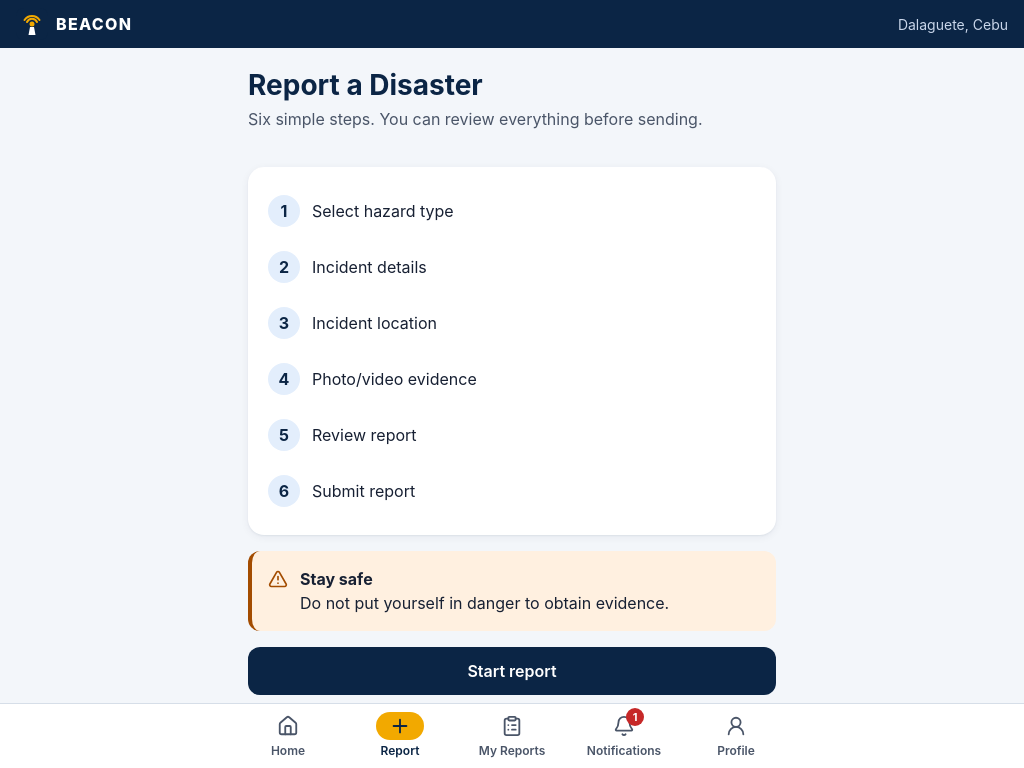
step 2: incident details › rejects a future date
The width and height of the screenshot is (1024, 768).
Click the button "Start report". click: (512, 671)
box: top-left (248, 647), bottom-right (776, 695)
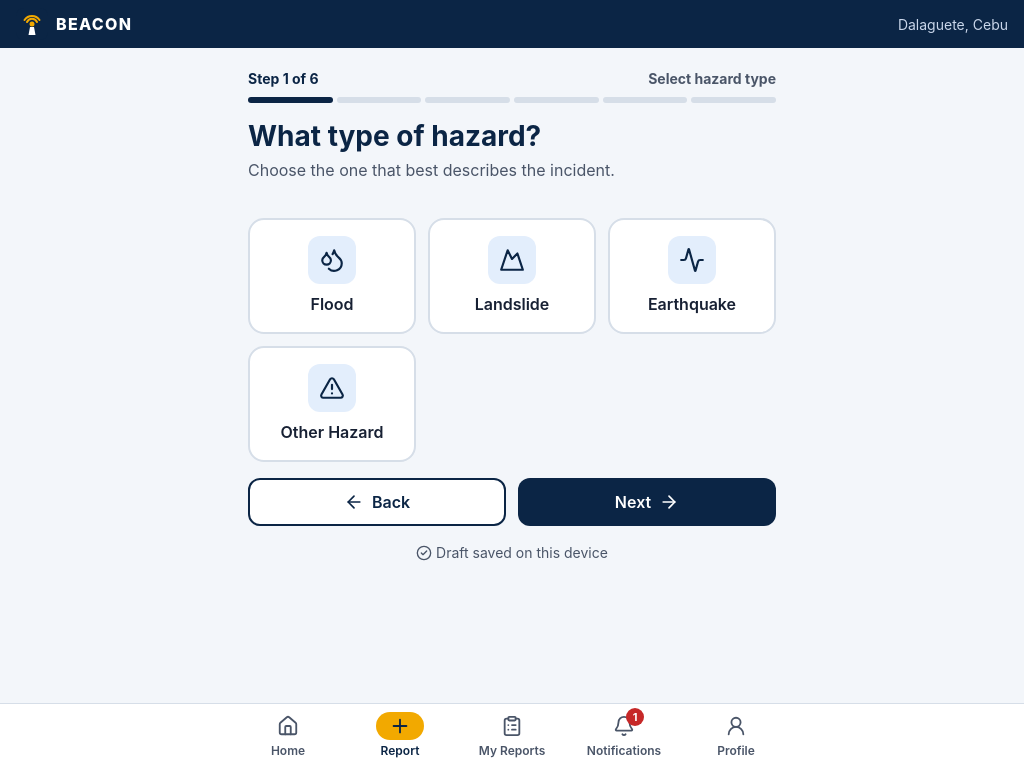
expect the heading "What type of hazard?" is shown: met, box top-left (248, 119), bottom-right (541, 153)
Click the radio button labelled "Landslide". click: (512, 276)
box: top-left (428, 218), bottom-right (596, 334)
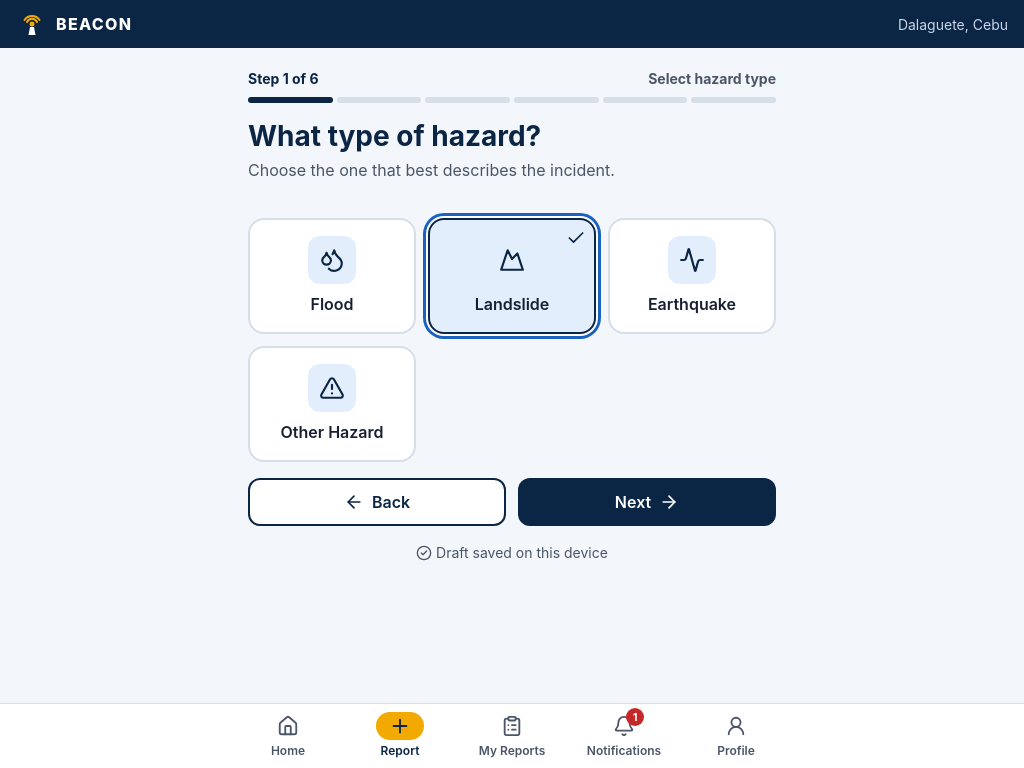
Click the button "Next". click: (647, 502)
box: top-left (518, 478), bottom-right (776, 526)
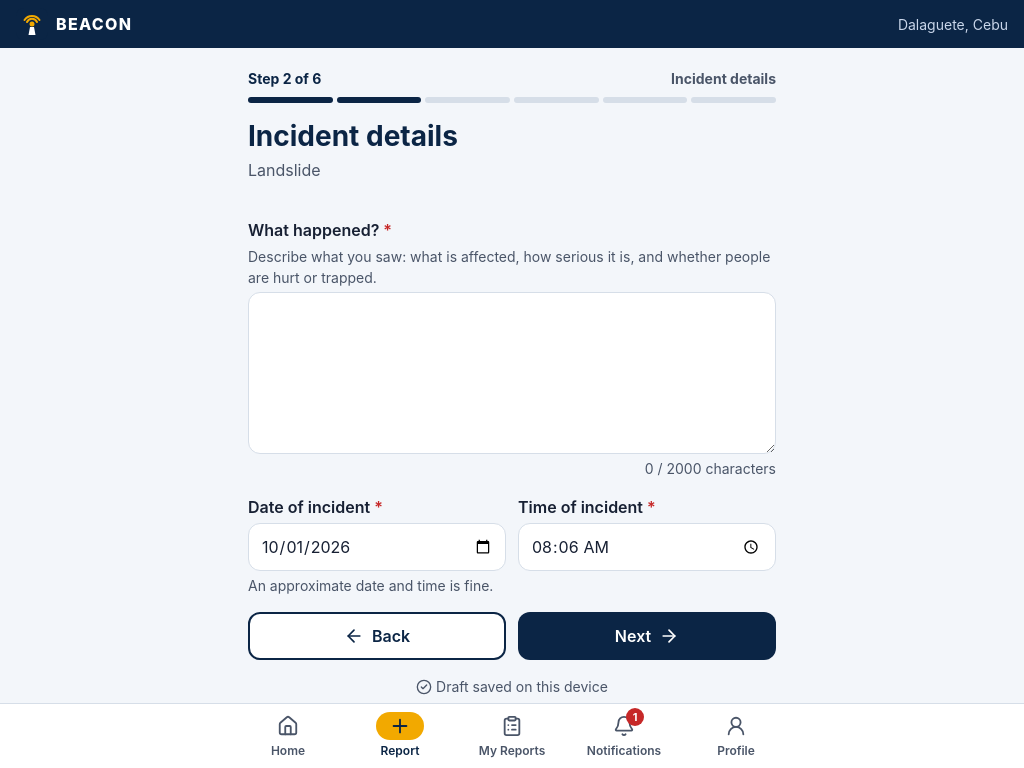
expect the heading "Incident details" is shown: met, box top-left (248, 119), bottom-right (458, 153)
Type "Rocks blocked the road." into the text box labelled "What happened?". click: (512, 373)
box: top-left (248, 292), bottom-right (776, 454)
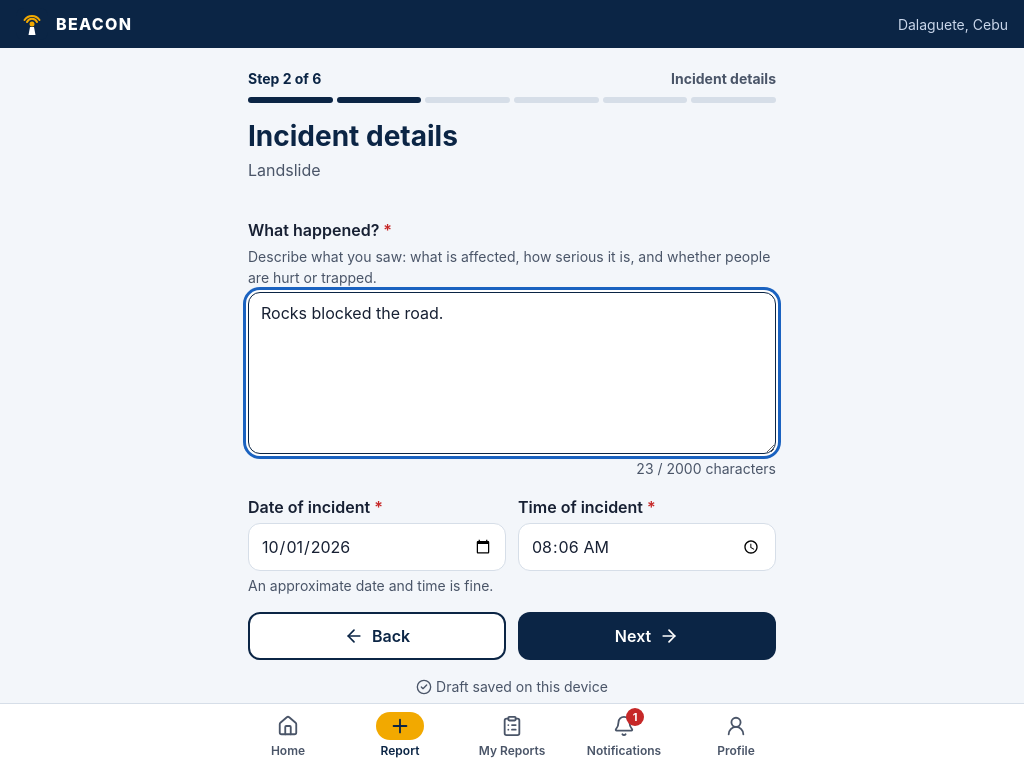
Type "2099-01-01" into the date field labelled "Date of incident". click: (377, 547)
box: top-left (248, 523), bottom-right (506, 571)
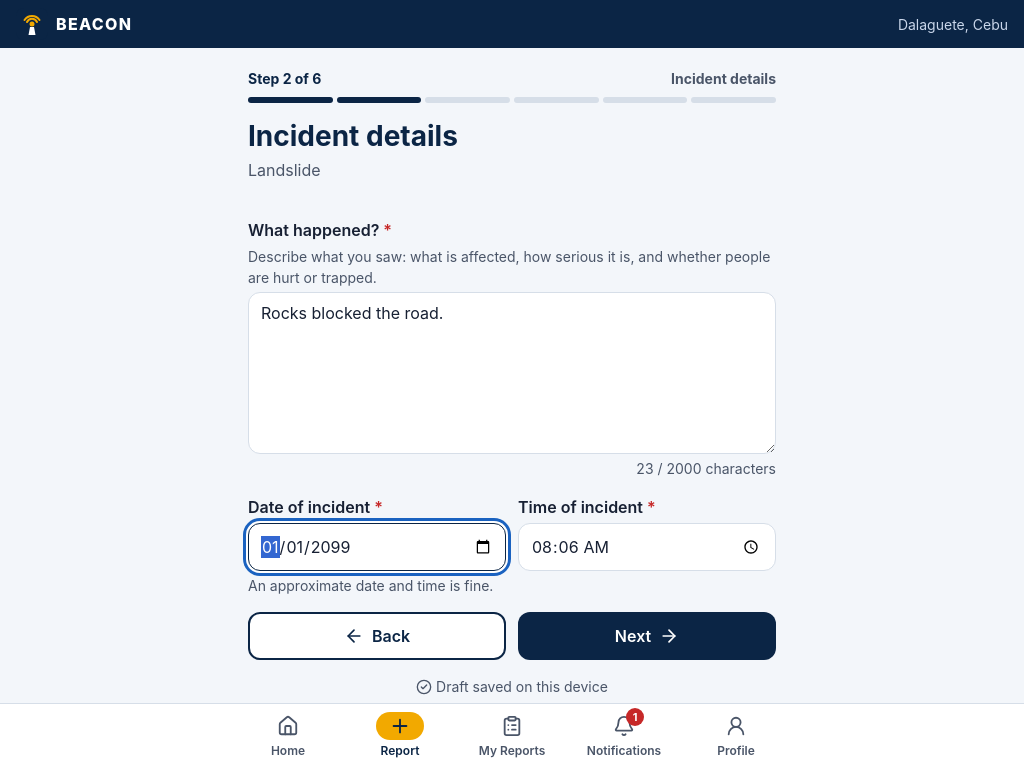
Click the button "Next". click: (647, 636)
box: top-left (518, 612), bottom-right (776, 660)
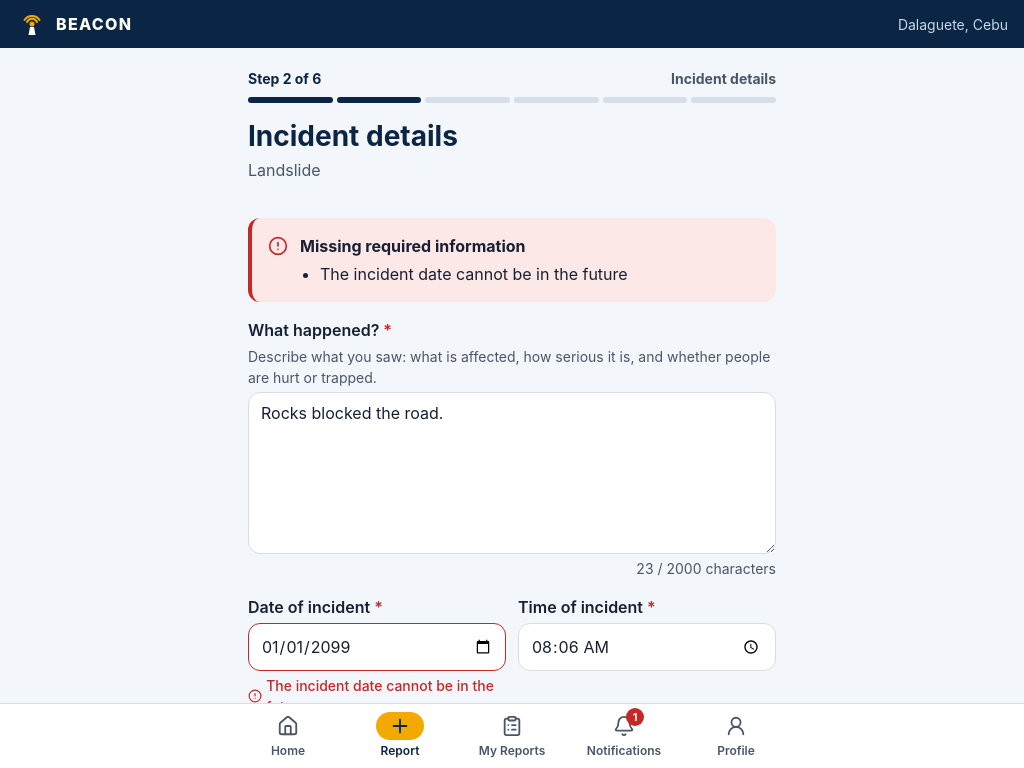
expect the list item "The incident date cannot be in the future" is shown: met, box top-left (320, 262), bottom-right (628, 286)
